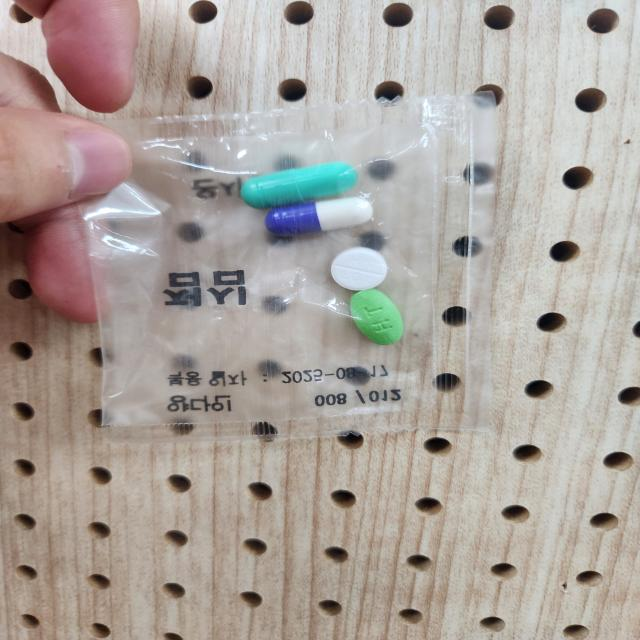러키펜정: (329, 248, 386, 295)
씨엠지세파클러캡슐: (267, 195, 374, 236)
에르도캡슐: (239, 162, 358, 210)
휴티렌정: (348, 290, 405, 348)
